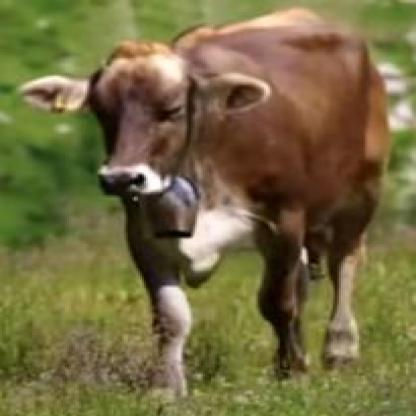cow: (19, 9, 391, 402)
